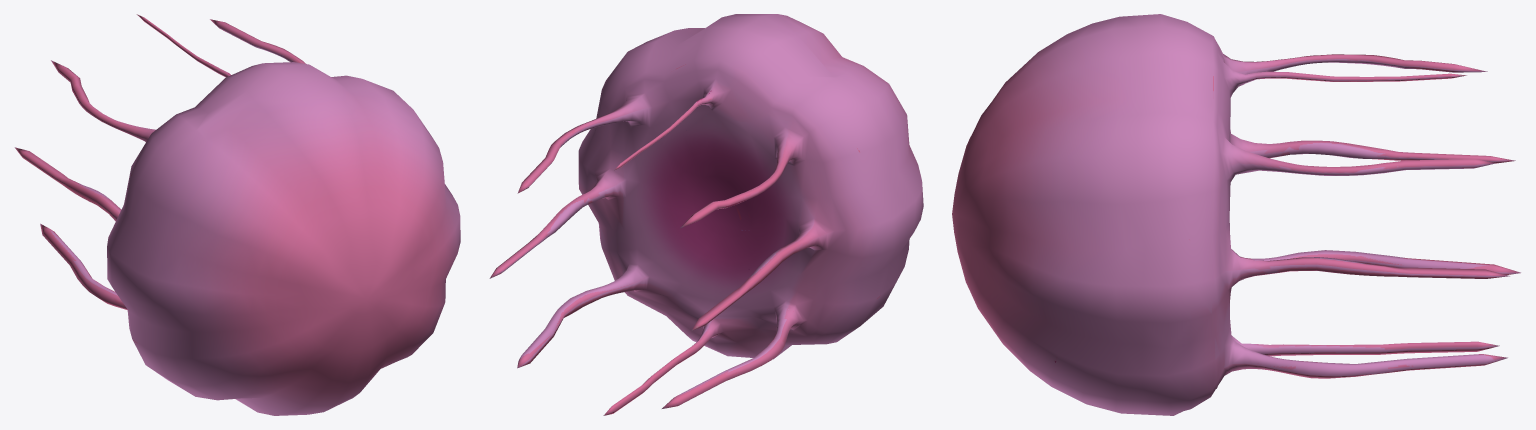
File: Jellyfish.obj
3 views of the same model, side by side, from view 1: azimuth 30°, elevation 25°; view 2: azimuth 150°, elevation 25°; view 3: azimuth 270°, elevation 25° (orthographic). The views are drawn at different scales.
Parts seen in each view (by area): view 1: obj2; view 2: obj2; view 3: obj2.
Part boxes in pixels (x1,y1,x2,y2): obj2: [14, 14, 460, 415]; obj2: [489, 14, 923, 415]; obj2: [952, 14, 1520, 415].
Size of the model in its own units: 2.2 by 2.19 by 3.
Materials: 2 (1 with a texture image).
